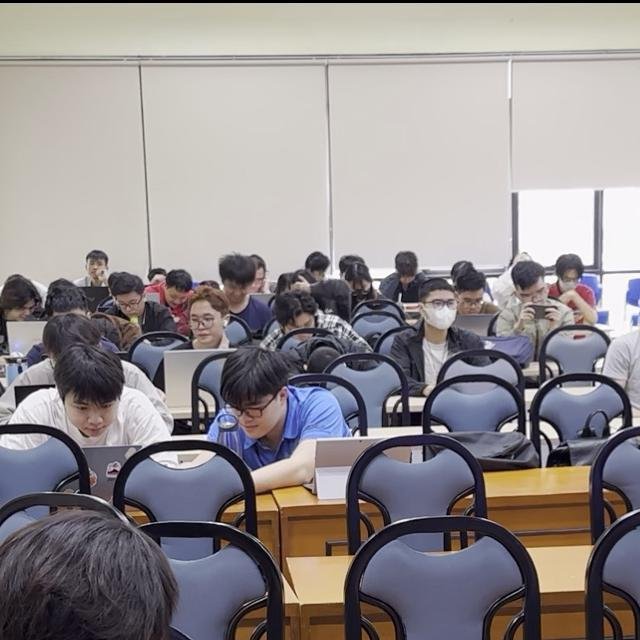Looking away: (228, 388, 281, 442), (62, 393, 120, 440), (190, 302, 223, 345)
Looking forward: (417, 288, 459, 333)
Phone use: (495, 258, 576, 342)
